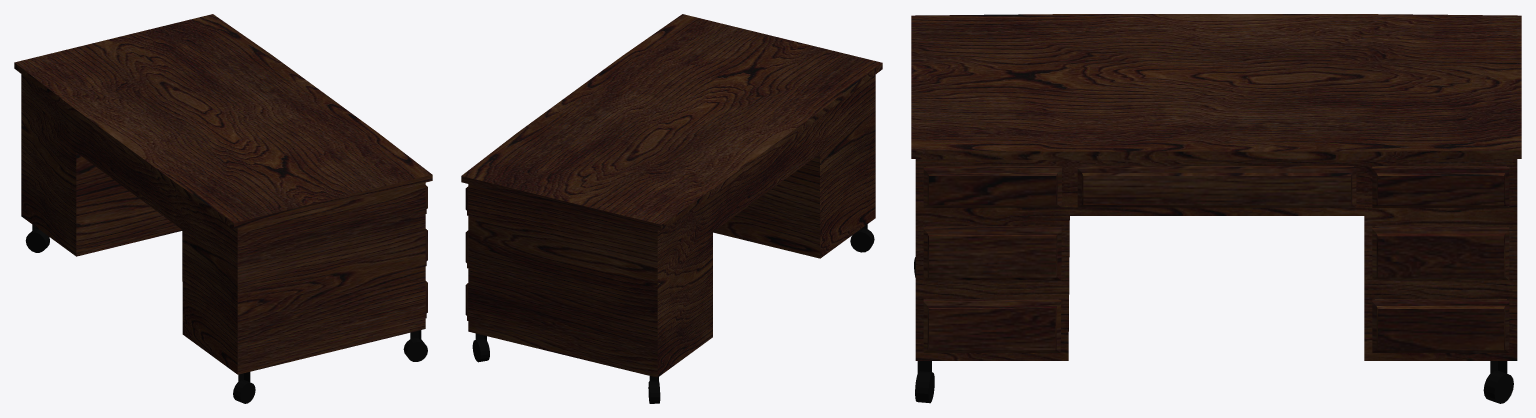
File: BigDesk.glb
3 views of the same model, side by side, from view 1: azimuth 30°, elevation 25°; view 2: azimuth 150°, elevation 25°; view 3: azimuth 270°, elevation 25° (orthographic). The views are drawn at different scales.
Visible parts, largest first — view 1: Cube.017; view 2: Cube.017; view 3: Cube.017, Cube.020, Cube.018, Cube.021, Cube.022, Cube.023, Cube.007, Cube.019.
Part boxes in pixels (x1,y1,x2,y2): Cube.017: [14, 14, 432, 403]; Cube.017: [461, 14, 882, 403]; Cube.017: [911, 14, 1521, 403]; Cube.020: [1077, 166, 1356, 207]; Cube.018: [923, 226, 1061, 280]; Cube.021: [1372, 226, 1509, 280]; Cube.022: [923, 299, 1061, 352]; Cube.023: [1372, 299, 1509, 352]; Cube.007: [923, 166, 1061, 207]; Cube.019: [1372, 166, 1509, 207].
Bounding box in the file's own units: 2.21 × 1.93 × 4.13.
Materials: 2 (2 with a texture image).
